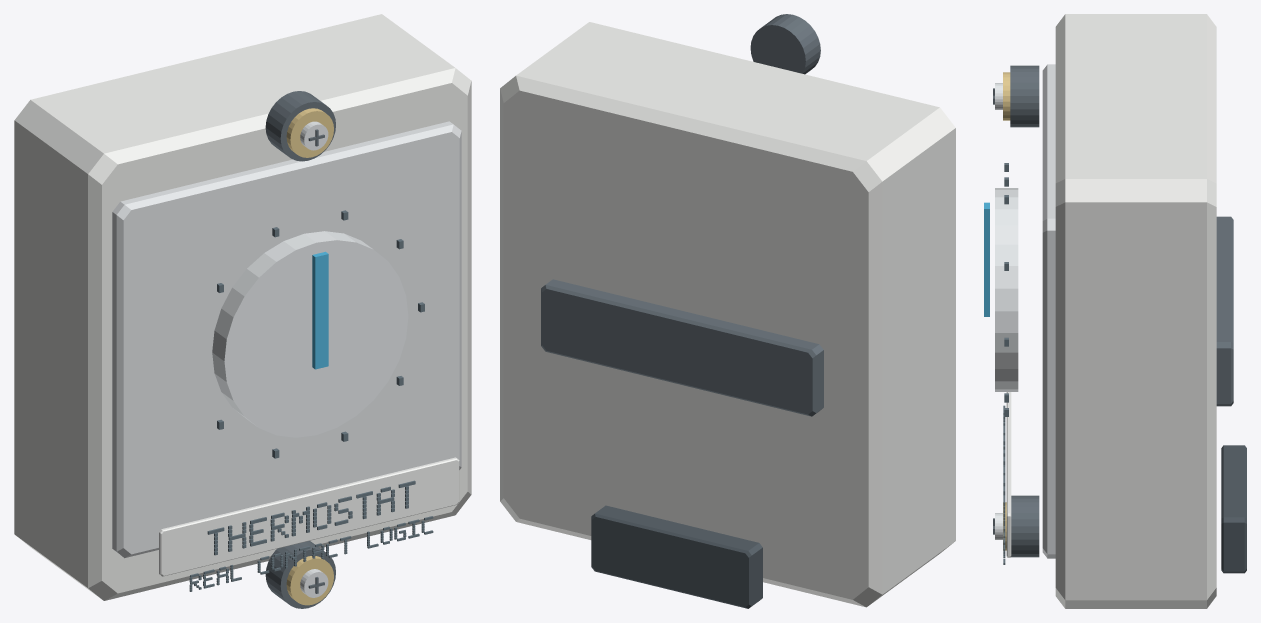
File: thermostat.glb
3 views of the same model, side by side, from view 1: azimuth 30°, elevation 25°; view 2: azimuth 150°, elevation 25°; view 3: azimuth 270°, elevation 25° (orthographic). The views are drawn at different scales.
Parts seen in each view (by area): view 1: thermostat-detailed; view 2: thermostat-detailed; view 3: thermostat-detailed.
Boxes of the visible parts, box(x1,y1,x2,y2) form: thermostat-detailed: box(14, 14, 471, 608); thermostat-detailed: box(500, 14, 955, 608); thermostat-detailed: box(984, 14, 1246, 608).
Bounding box in the file's own units: 2.17 × 2.73 × 1.34.
